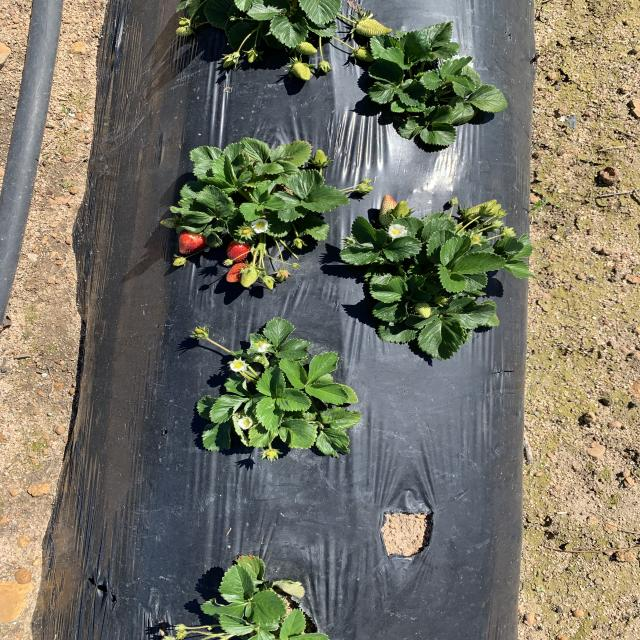unripe: (177, 229, 204, 255), (225, 238, 252, 262), (226, 260, 251, 284)
